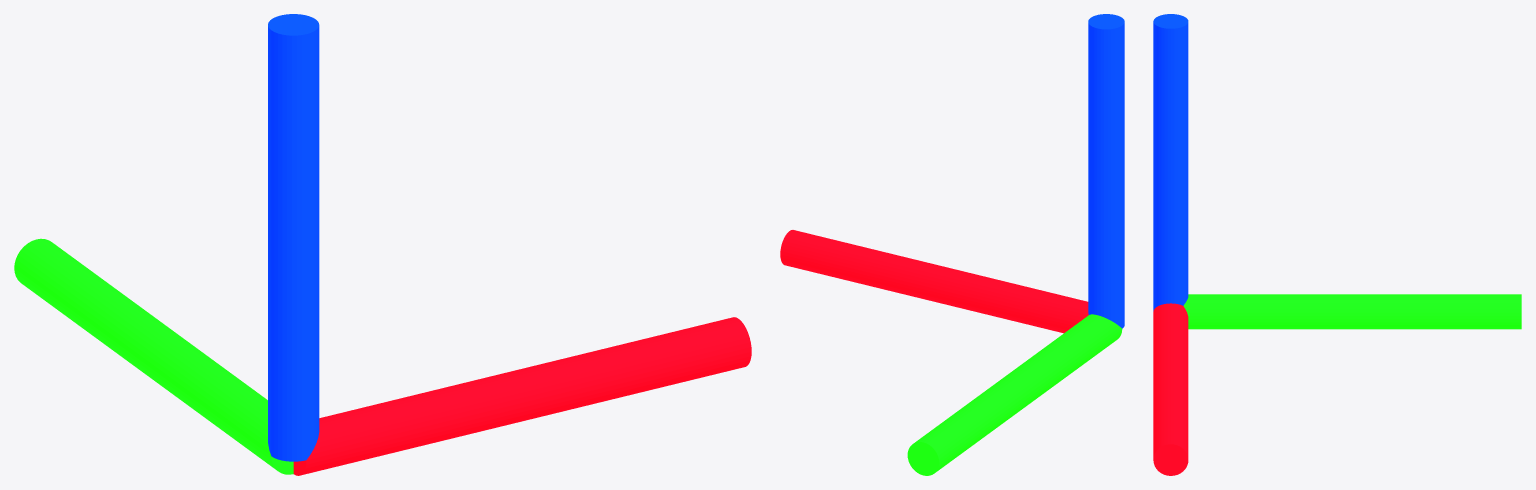
Rendered from axis_frame_3.dae.
3 renders of one model, left to right at view 1: azimuth 30°, elevation 25°; view 2: azimuth 150°, elevation 25°; view 3: azimuth 270°, elevation 25°, orthographic. The views are drawn at different scales.
Visible parts, largest first — view 1: Text; view 2: Text; view 3: Text.
Boxes of the visible parts, x1=… form: Text: x1=14, y1=14, x2=751, y2=475; Text: x1=780, y1=14, x2=1124, y2=475; Text: x1=1153, y1=14, x2=1521, y2=475.
Size of the model in its own units: 0.7875 by 0.7875 by 0.7232.
